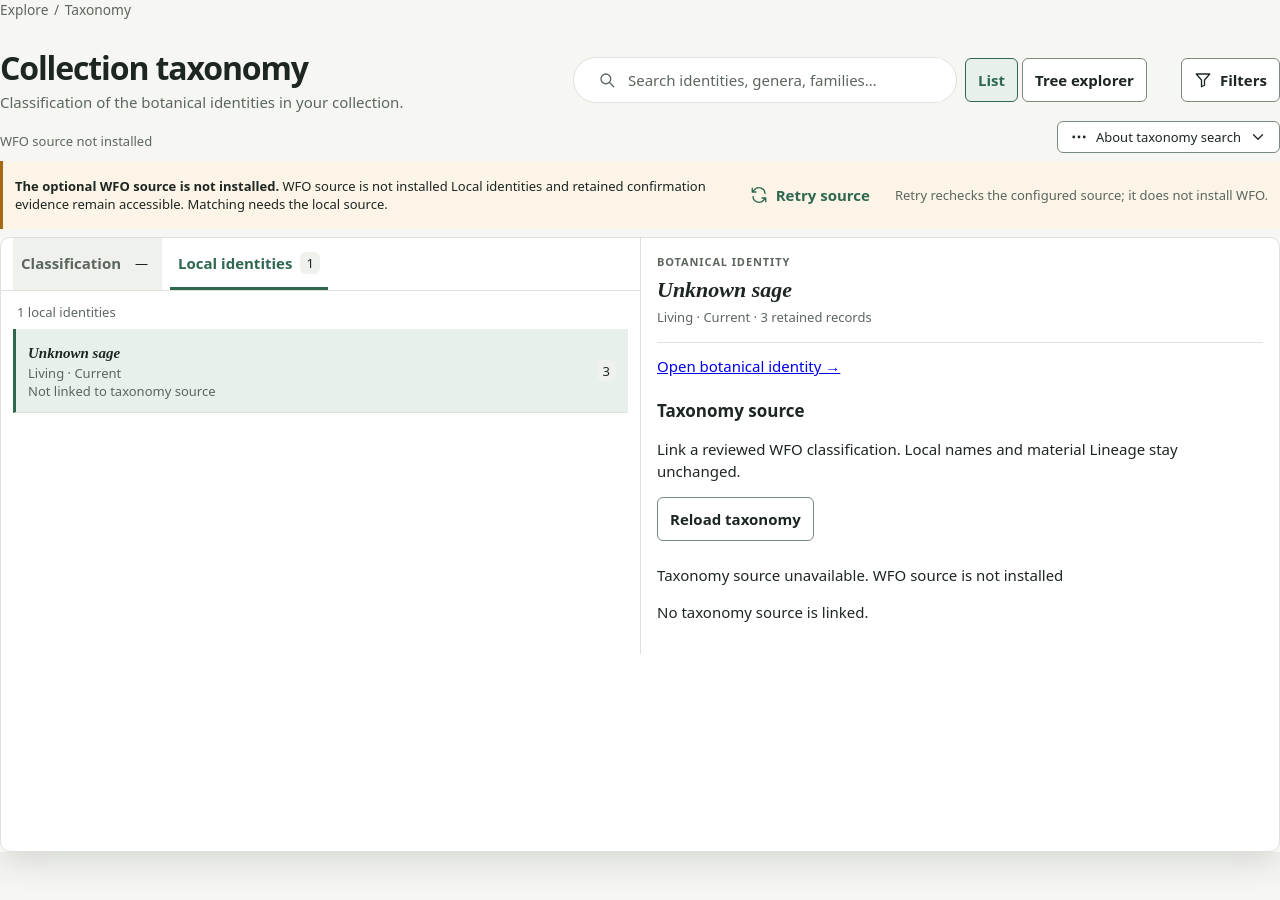
it: Retry source refreshes the selected identity editor when the configured source becomes available
Expected: the text "Taxonomy source unavailable. WFO source is not installed" is shown, [657,565,1063,585]
Expected: the field labelled "Search WFO names" is not shown
Click the button "Retry source" at (810, 195), box [737,173,883,217]
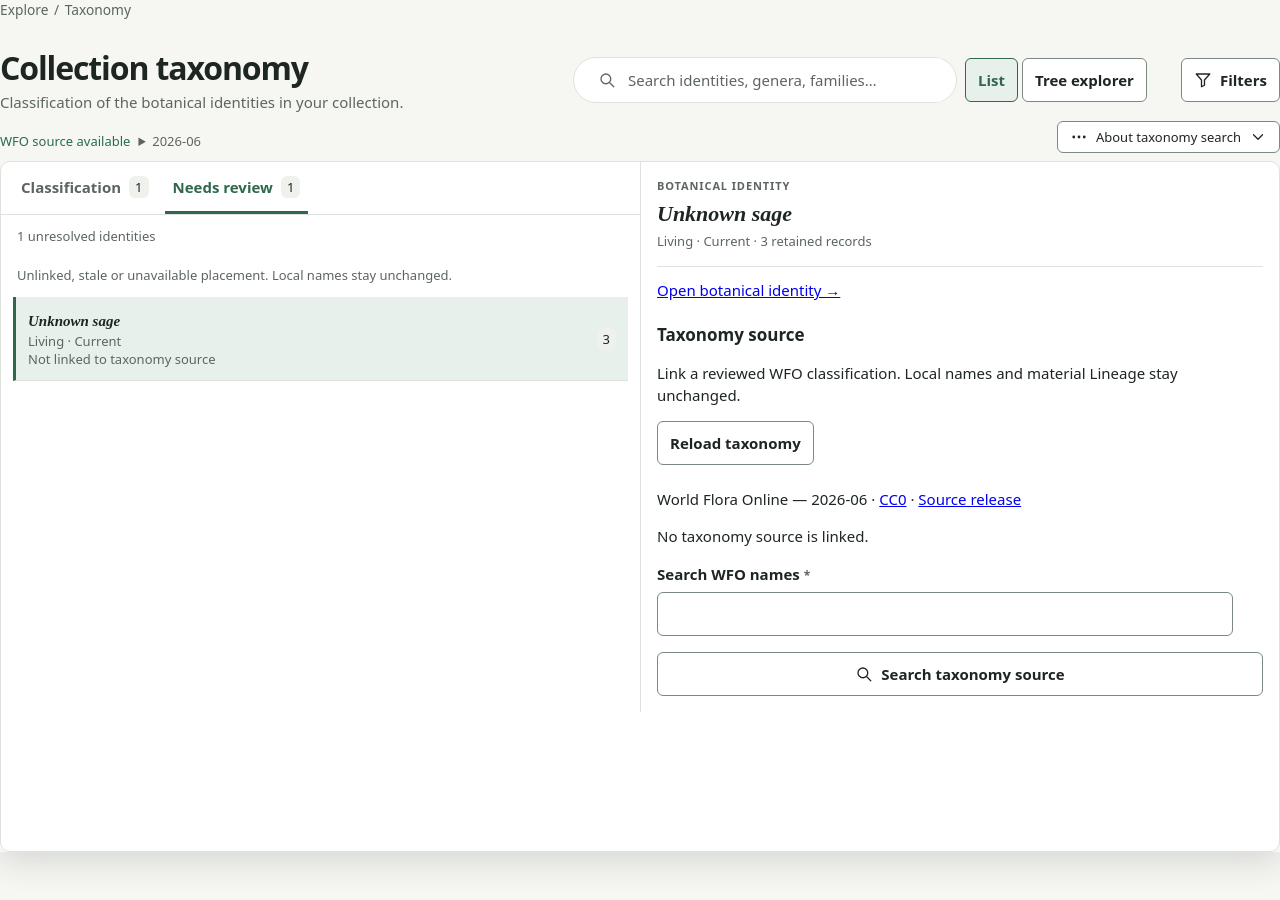
Expected: the field labelled "Search WFO names" is shown, [657,592,1233,636]
